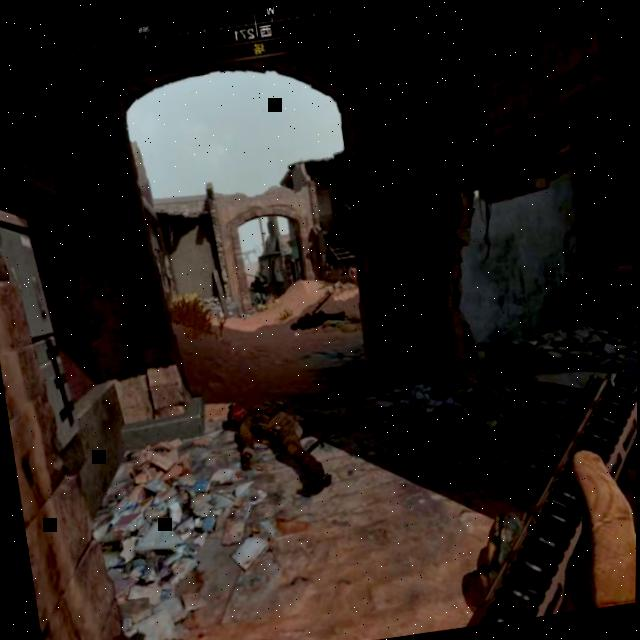MW2_body: (250, 273, 272, 306)
